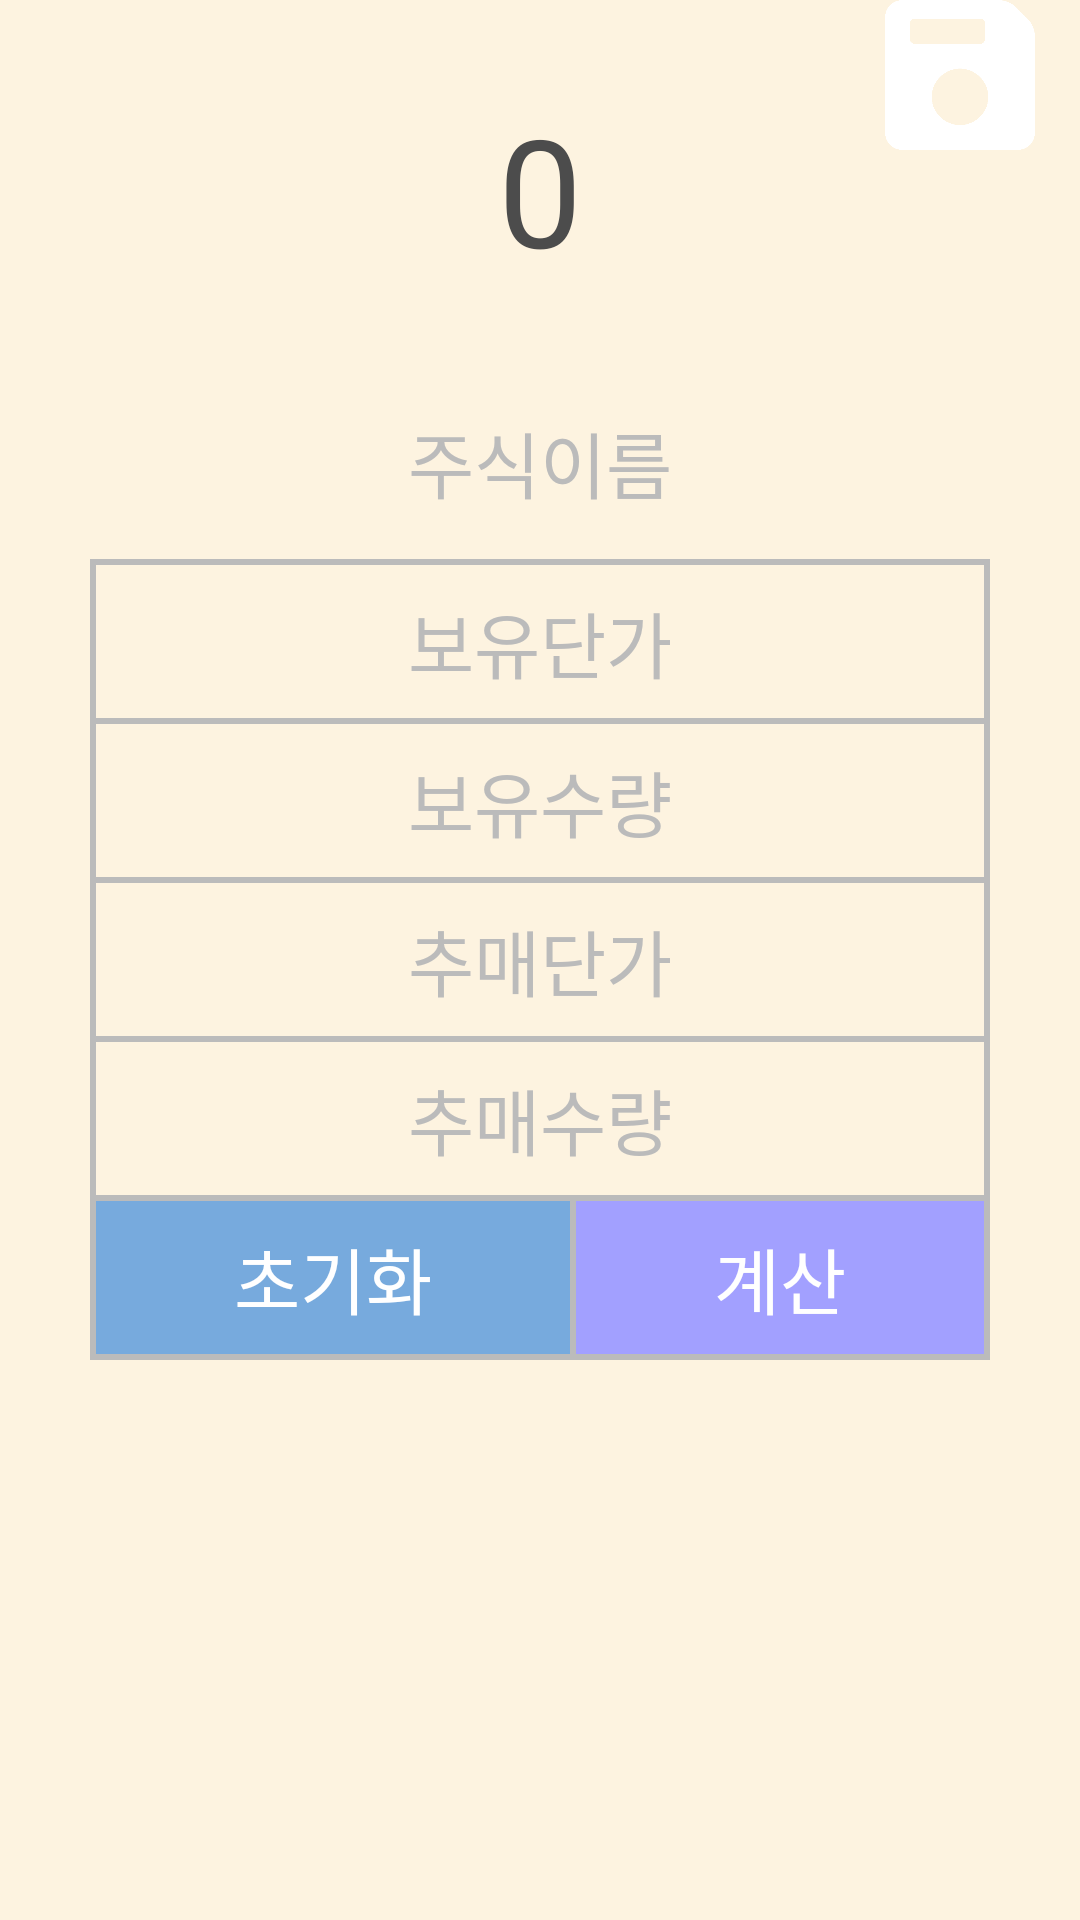

Named icons in this screenshot (1080×1920) and their centers, (x=x, y=y):
save: (x=960, y=75)
